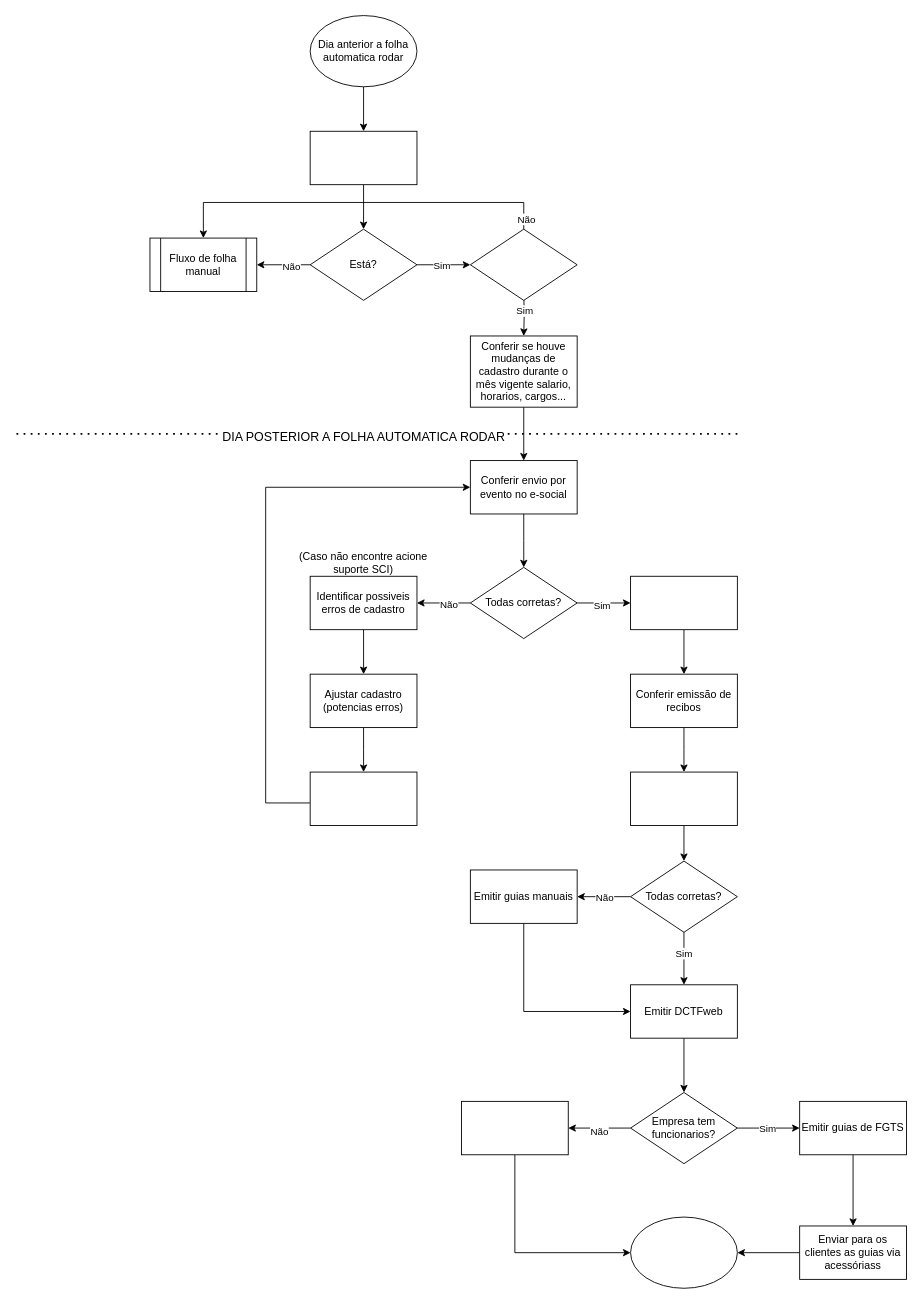
Some shapes in this 922 by 1304 pixel diagram are drawn without their labels. Here are the shapes that lost their labels. From the top down, the centre of each, then its label:
At (363,157): "Identificar se empresa está na lista de folha automatica (CRM)".
At (523,264): "Alguma variavel especifica?".
At (683,602): "Conferir valores e possiveis erros".
At (363,798): "Retransmitir para e-social das necessárias".
At (683,798): "Conferir se foram emitidas as Guias de INSS".
At (514,1127): "Enviar recibos para os clientes via acessórias".
At (683,1252): "FIM".
